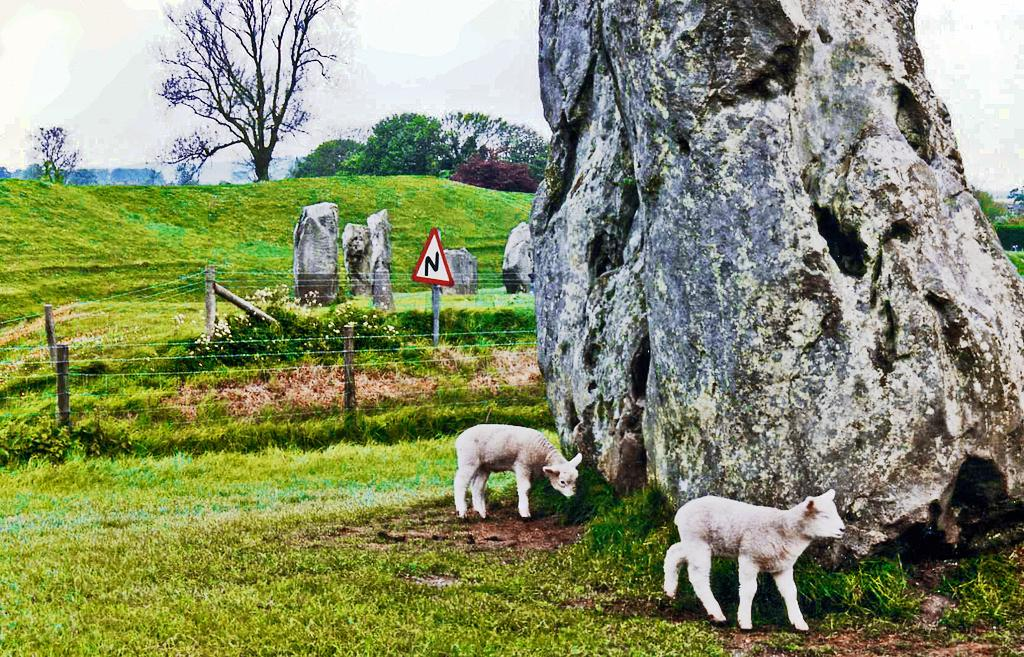Sheep: (662, 487, 844, 632), (452, 426, 580, 516)
